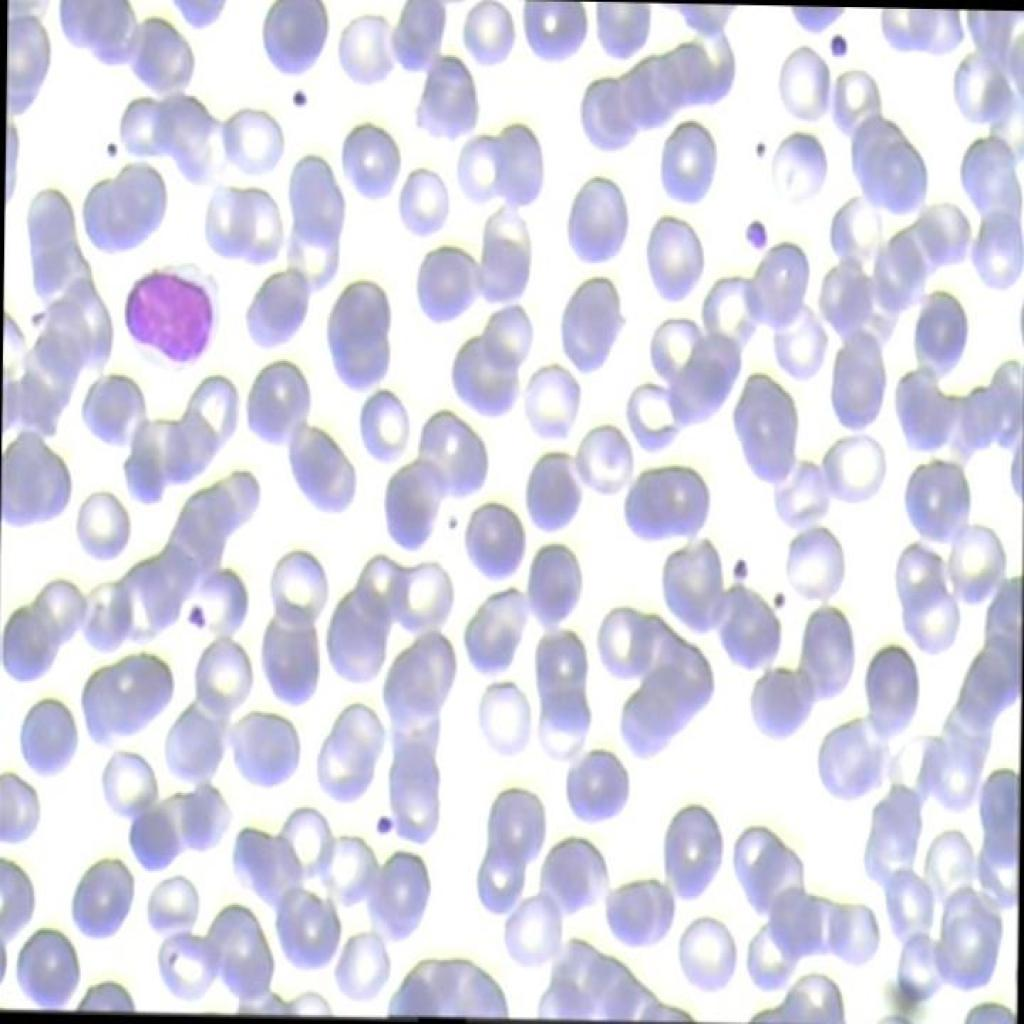Limfosit: (116, 246, 234, 372)
Platelet: (721, 199, 774, 258), (819, 23, 873, 73), (358, 800, 407, 850), (761, 580, 798, 634), (277, 73, 317, 117), (736, 130, 772, 165), (721, 542, 751, 583), (175, 590, 199, 640), (100, 132, 128, 166)
